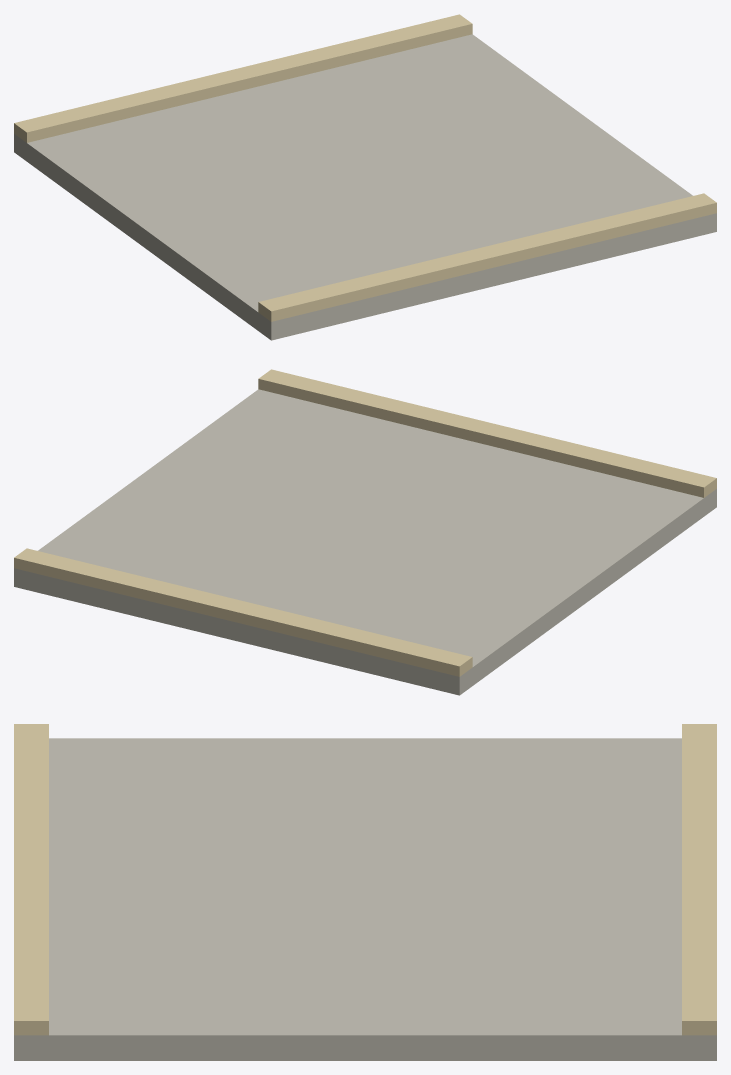
File: zoo-and-safari-park-builder-path-straight-a143e6b1__21483.glb
3 renders of one model, top to bottom at view 1: azimuth 30°, elevation 25°; view 2: azimuth 150°, elevation 25°; view 3: azimuth 270°, elevation 25°, orthographic. The views are drawn at different scales.
Visible parts, largest first — view 1: path-straight; view 2: path-straight; view 3: path-straight.
Boxes of the visible parts, x1,y1,x2,y2 form: path-straight: (14,14,716,340); path-straight: (14,369,716,695); path-straight: (14,724,716,1060).
Bounding box in the file's own units: 2 × 0.125 × 2.
